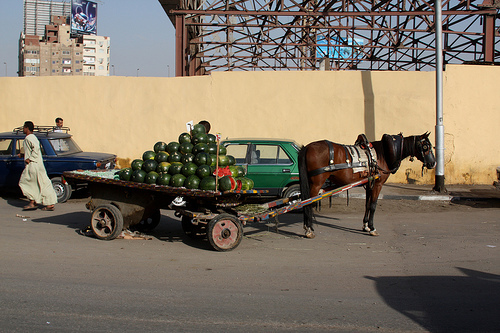horse: (297, 130, 437, 239)
